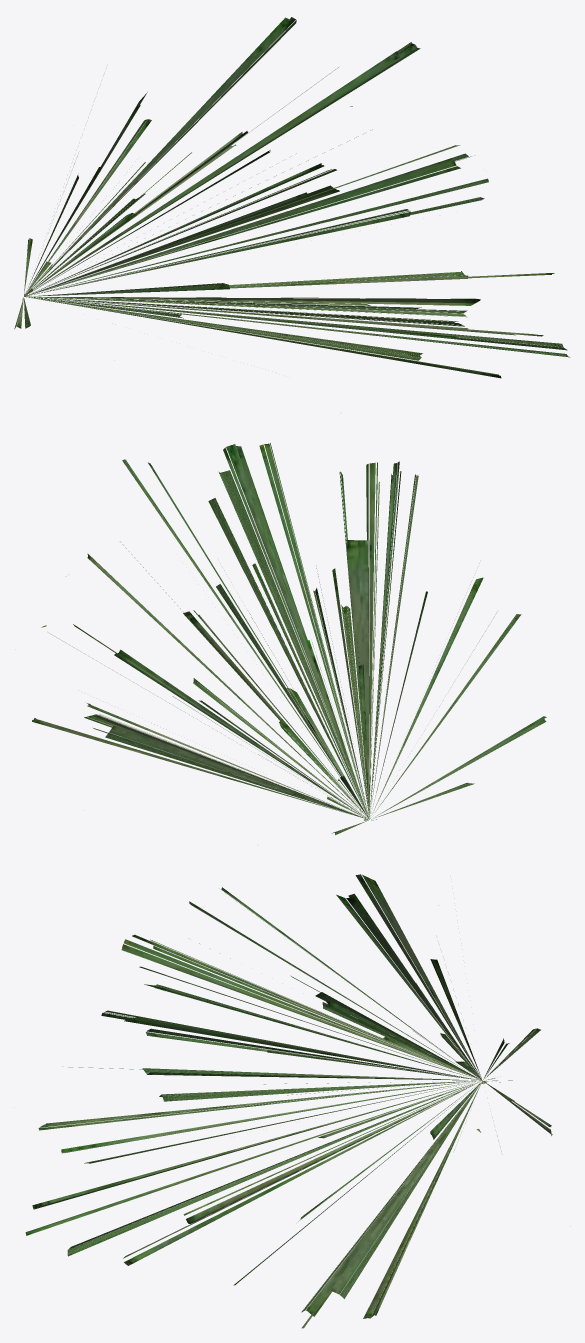
File: nature_sapling_01.glb
3 views of the same model, one above another, from view 1: azimuth 30°, elevation 25°; view 2: azimuth 150°, elevation 25°; view 3: azimuth 270°, elevation 25° (orthographic). The views are drawn at different scales.
Visible parts, largest first — view 1: geometry_0; view 2: geometry_0; view 3: geometry_0.
Boxes of the visible parts, x1=… form: geometry_0: x1=14, y1=17, x2=569, y2=378; geometry_0: x1=32, y1=443, x2=546, y2=835; geometry_0: x1=25, y1=874, x2=552, y2=1328.
Size of the model in its own units: 0.9411 by 0.5917 by 0.8437.
Materials: 1 (1 with a texture image).
